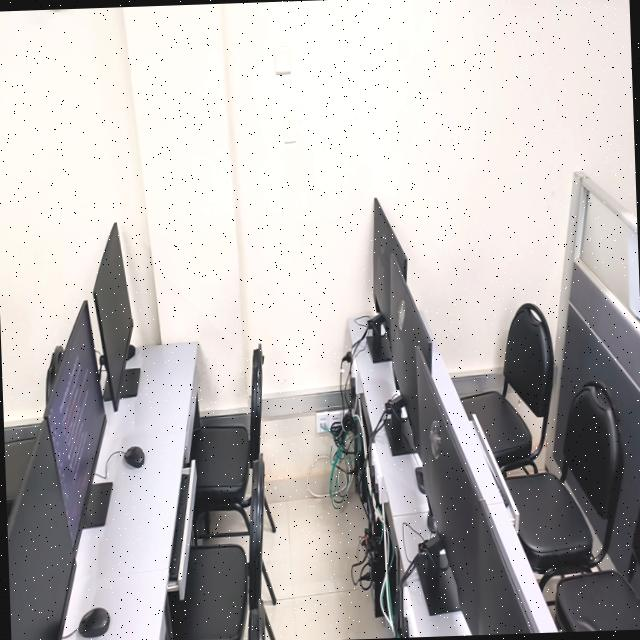Chair: (508, 381, 622, 589), (171, 453, 269, 640), (461, 303, 553, 475), (191, 344, 263, 541), (554, 570, 640, 632), (248, 598, 268, 640), (252, 352, 262, 421), (632, 503, 640, 569), (260, 547, 263, 574)
Monitor: (416, 348, 484, 635), (44, 301, 105, 555), (7, 420, 76, 640), (389, 259, 432, 451), (468, 504, 531, 635), (93, 223, 133, 410), (372, 198, 406, 328)
Mouse: (78, 607, 109, 637), (123, 446, 144, 468)
